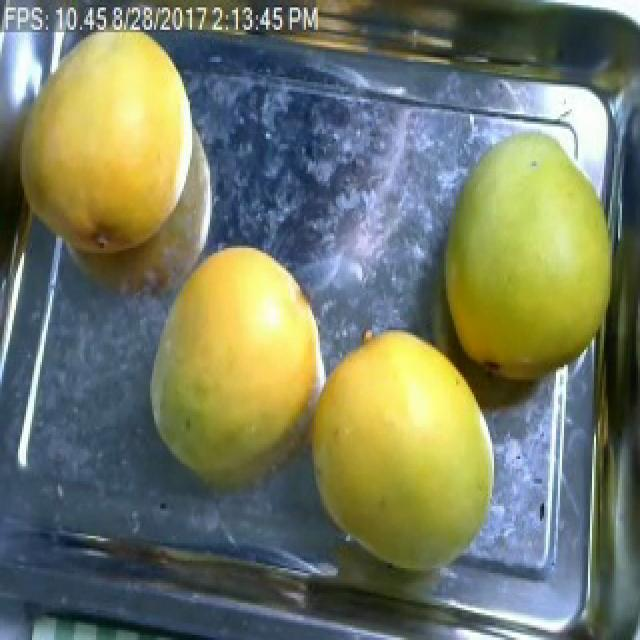fruit: (122, 228, 356, 511), (286, 320, 510, 593), (0, 25, 222, 275), (426, 117, 626, 392)
